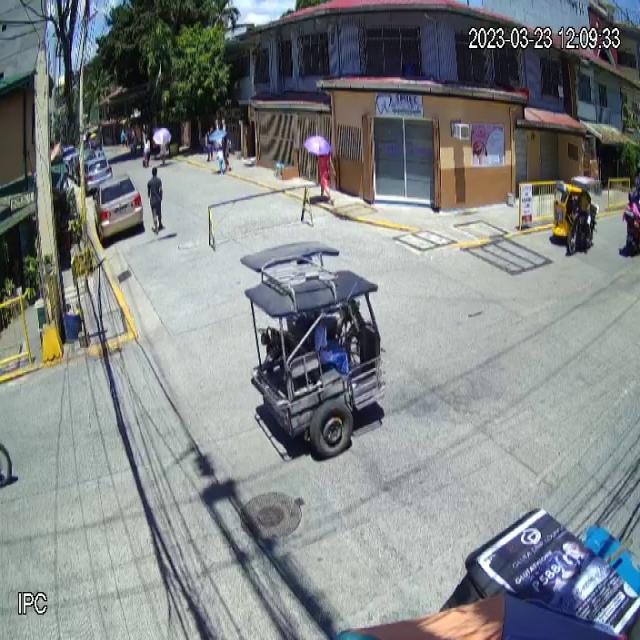Car: (94, 174, 143, 242)
Tricycle: (240, 241, 387, 455)
